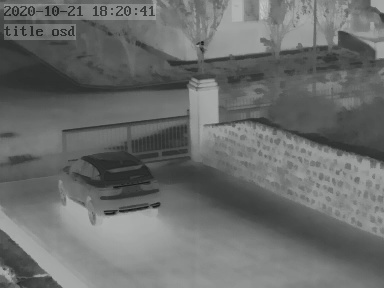vehicle: (58, 143, 157, 219)
